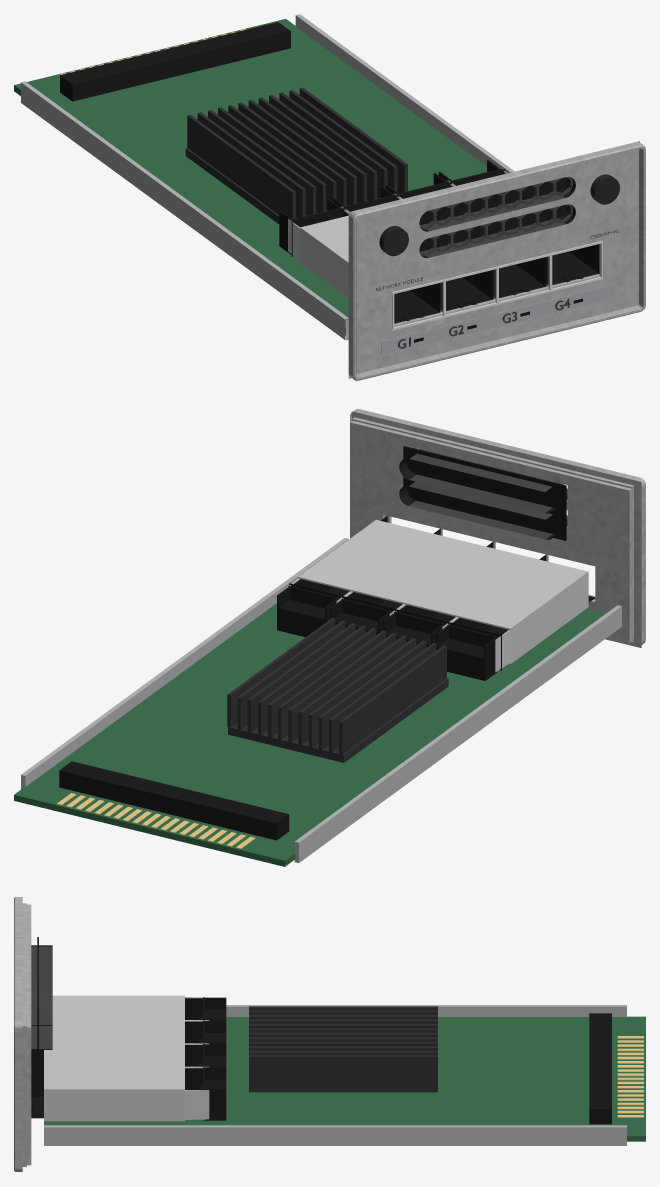
3 renders of one model, top to bottom at view 1: azimuth 30°, elevation 25°; view 2: azimuth 150°, elevation 25°; view 3: azimuth 270°, elevation 25°, orthographic. The views are drawn at different scales.
Visible parts, largest first — view 1: Body; view 2: Body; view 3: Body.
Part boxes in pixels (box(x1,y1,x2,y2)): Body: box(14, 14, 645, 380); Body: box(14, 409, 645, 866); Body: box(14, 897, 645, 1171).
Bounding box in the file's own units: 0.0805 × 0.0438 × 0.1672.
Materials: 14 (2 with a texture image).
